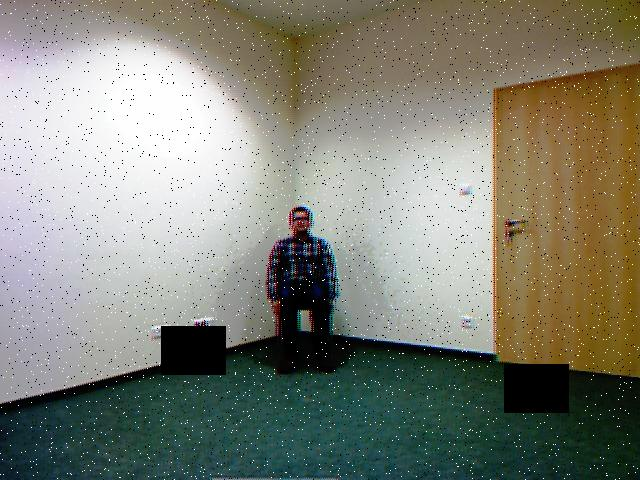sitting: (259, 201, 359, 391)
